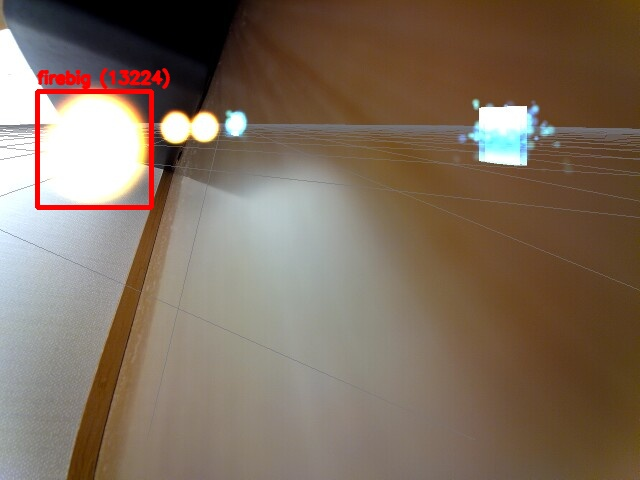firebig: (37, 91, 151, 207)
